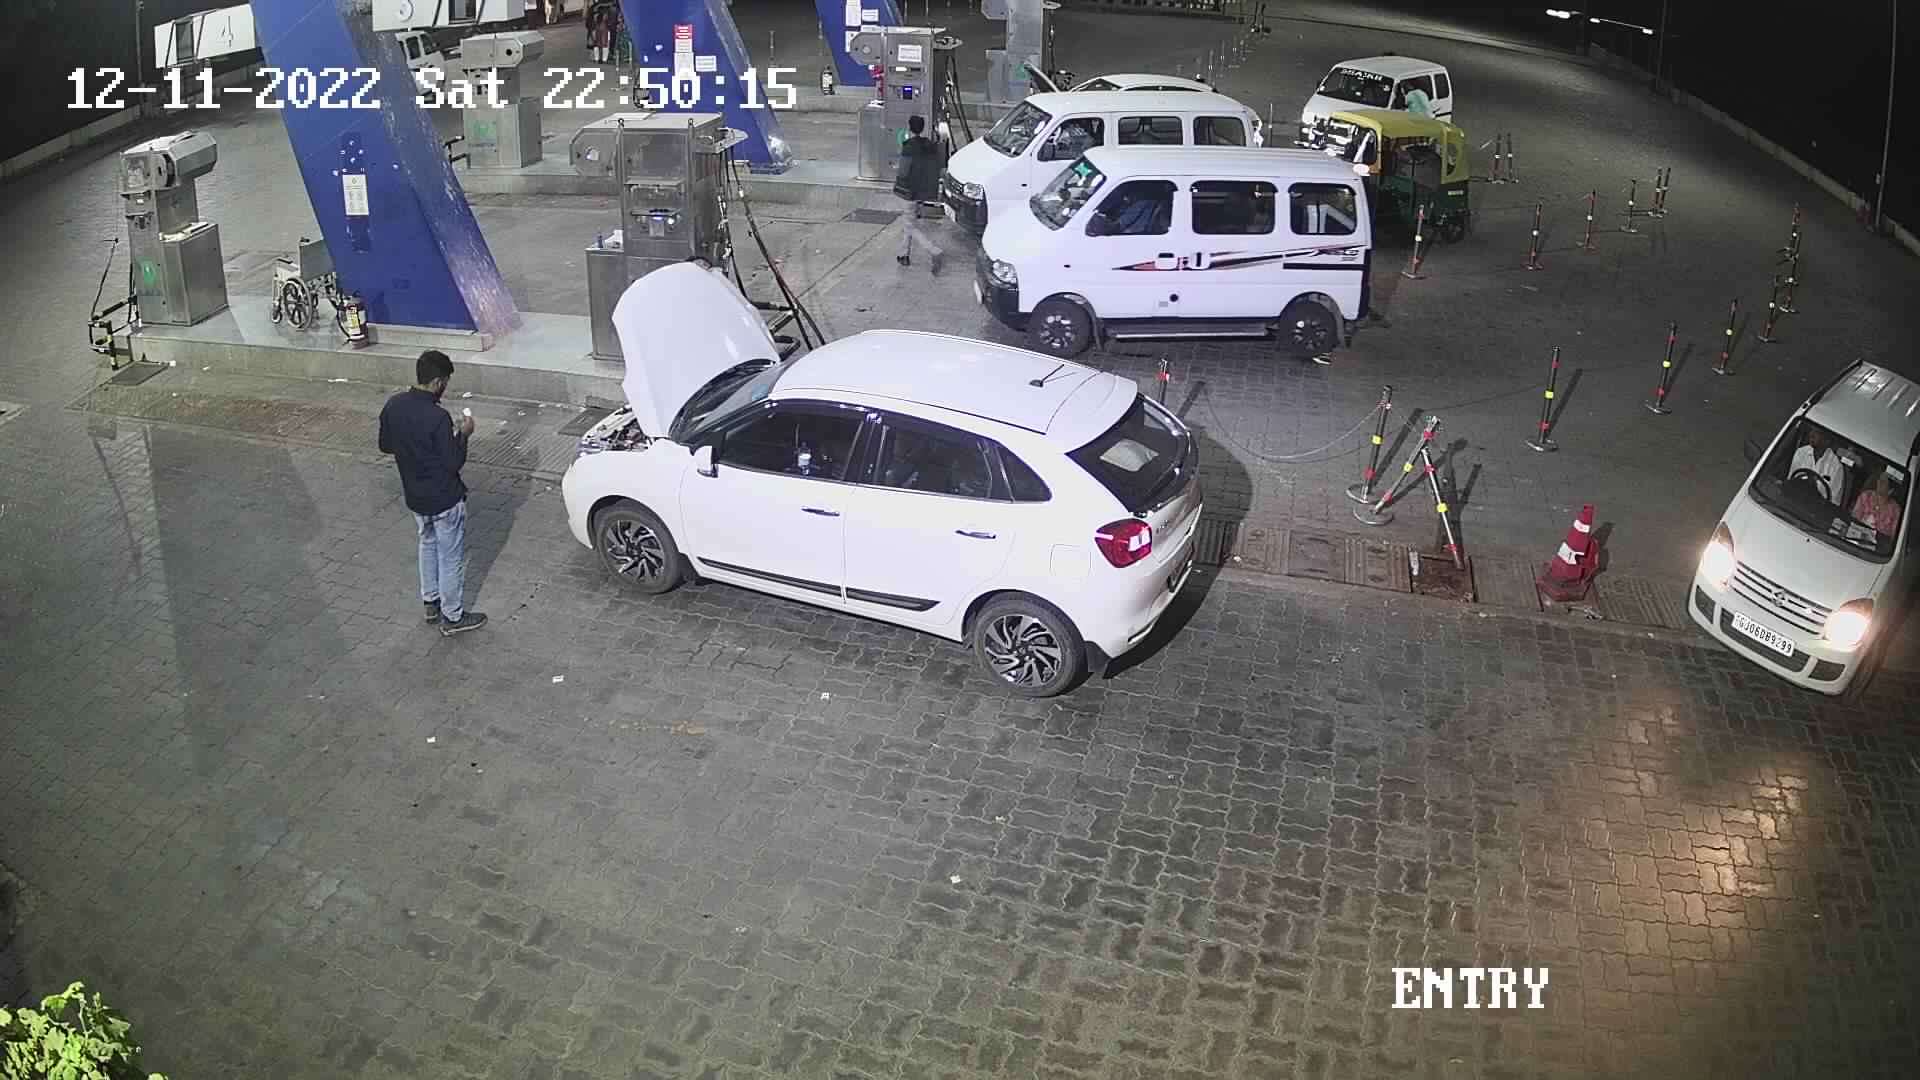Auto: (1287, 102, 1480, 245)
Car: (549, 252, 1218, 707), (968, 137, 1378, 368), (1677, 349, 1917, 700), (916, 80, 1273, 245), (1284, 50, 1462, 156), (1015, 61, 1237, 117), (380, 20, 458, 109)
